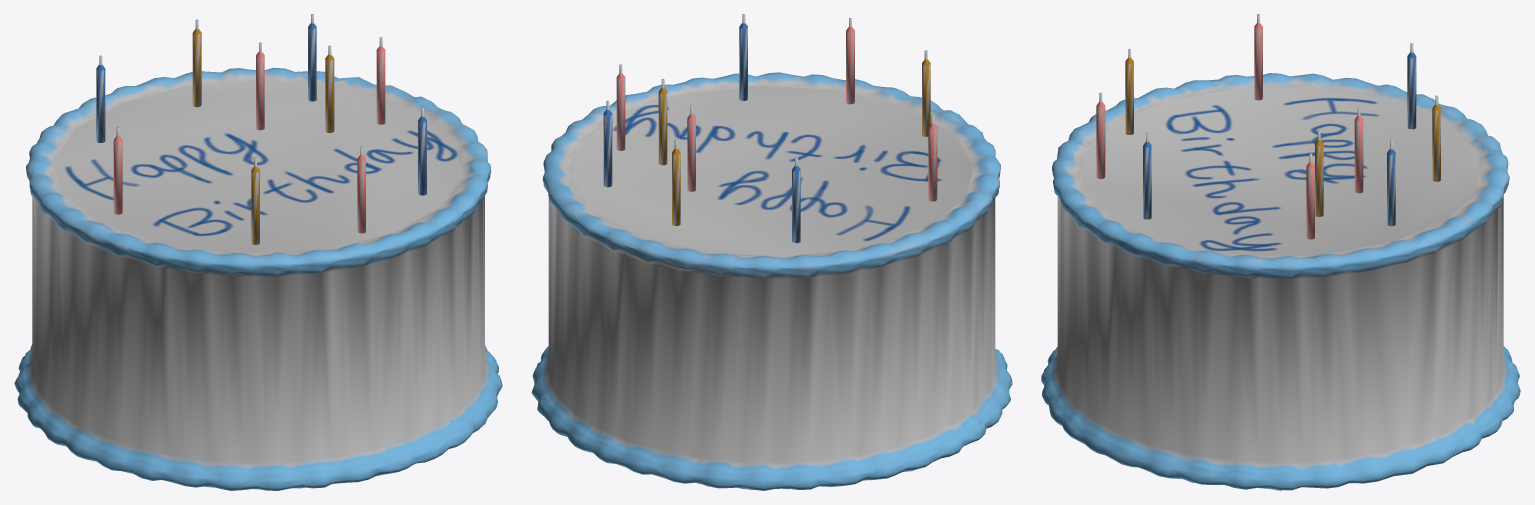
3 renders of one model, left to right at view 1: azimuth 30°, elevation 25°; view 2: azimuth 150°, elevation 25°; view 3: azimuth 270°, elevation 25°, orthographic.
Visible parts, largest first — view 1: Cylinder.002; view 2: Cylinder.002; view 3: Cylinder.002.
Boxes of the visible parts, left/top/right/bottom form: Cylinder.002: left=14, top=14, right=502, bottom=490; Cylinder.002: left=531, top=14, right=1012, bottom=490; Cylinder.002: left=1041, top=14, right=1520, bottom=490.
Bounding box in the file's own units: 265 × 186 × 264.
1 material, 1 textured.
